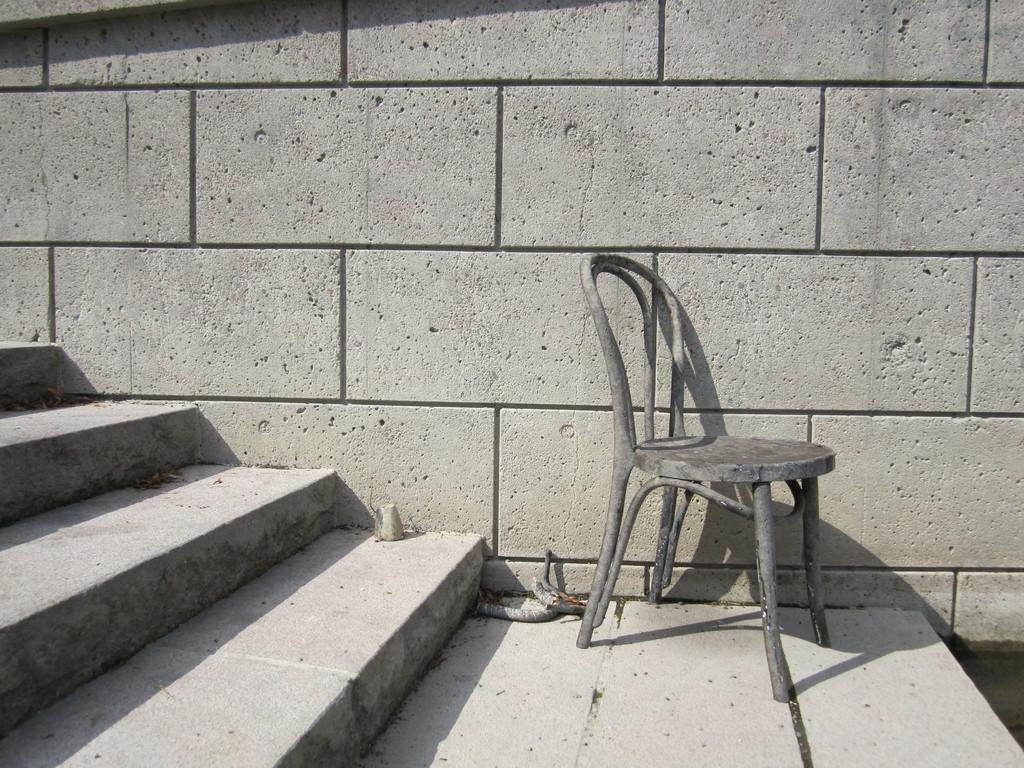Chair: (552, 236, 850, 705)
